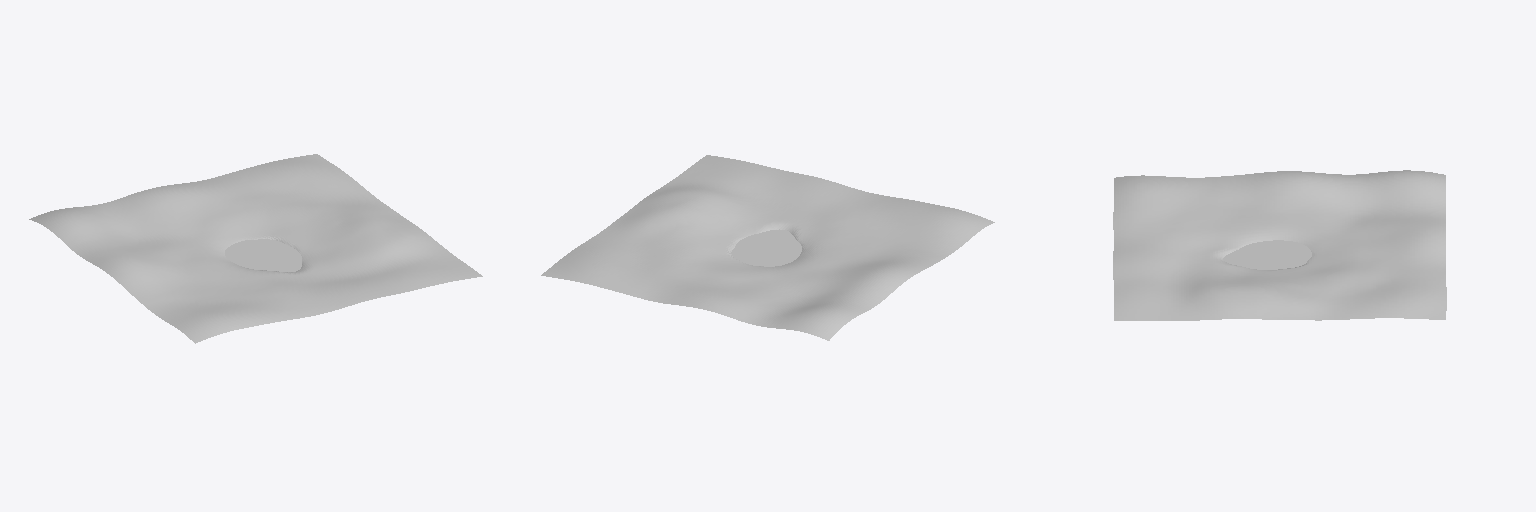
File: map.obj
The picture shows the model from 3 angles: view 1: azimuth 30°, elevation 25°; view 2: azimuth 150°, elevation 25°; view 3: azimuth 270°, elevation 25°; orthographic projection.
Visible parts, largest first — view 1: Плоскость, Плоскость.001; view 2: Плоскость, Плоскость.001; view 3: Плоскость, Плоскость.001.
Part boxes in pixels (x1,y1,x2,y2): Плоскость: (29, 154, 482, 343); Плоскость.001: (225, 239, 301, 271); Плоскость: (541, 155, 994, 340); Плоскость.001: (731, 229, 801, 266); Плоскость: (1113, 170, 1446, 320); Плоскость.001: (1223, 240, 1311, 269).
Bounding box in the file's own units: 32.31 × 4.06 × 32.33.